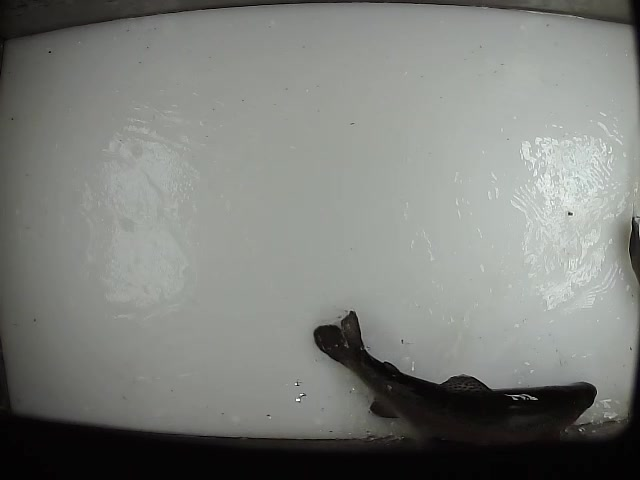fish: (310, 305, 598, 458)
